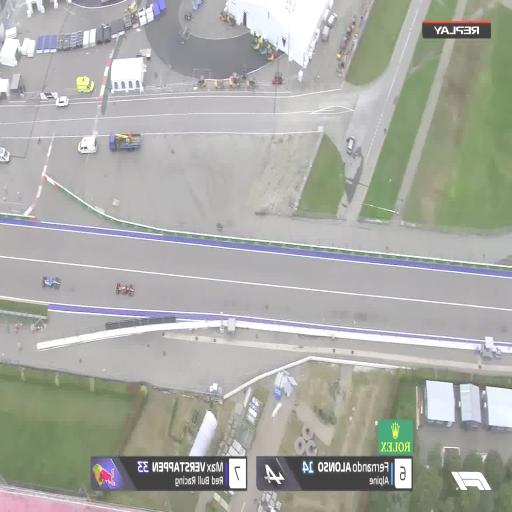f1_car: (116, 282, 135, 296), (42, 276, 61, 289)
